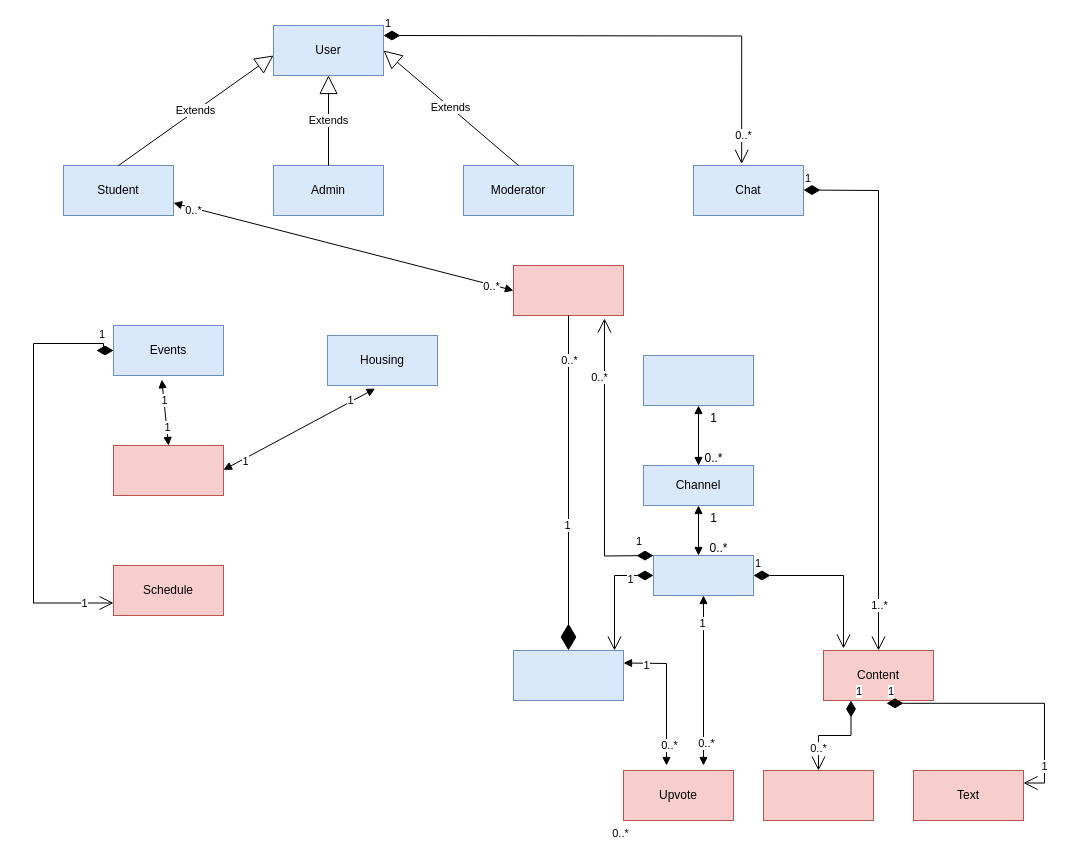
Image size: 1079x857. Some labels were removed from this diagram. The shapes that lost their labels are listed below. From the top down, each one's centre as x and y in pixels, then its label:
At point (568, 290): "Report".
At point (698, 380): "Feed".
At point (168, 470): "Location".
At point (703, 575): "Post".
At point (568, 675): "Comment".
At point (818, 795): "Media".
